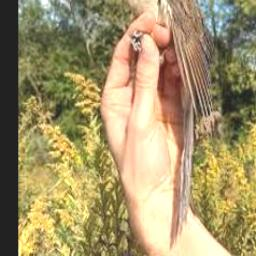Cuckoo: (103, 0, 216, 244)
